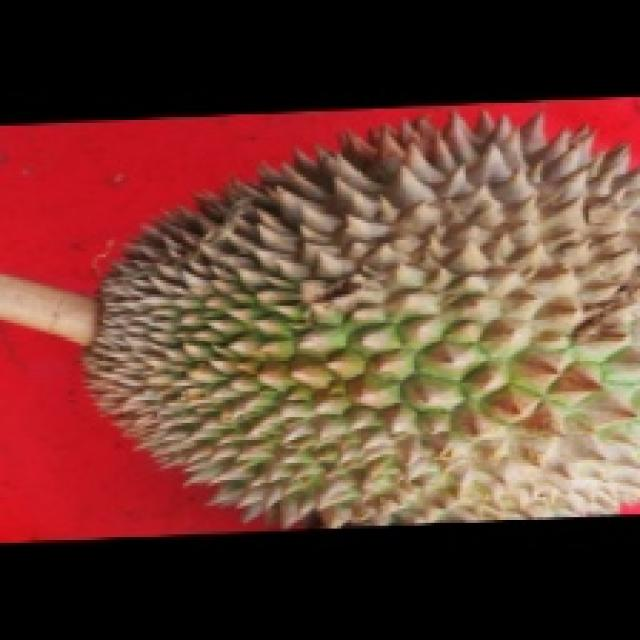d175: (45, 114, 640, 531)
